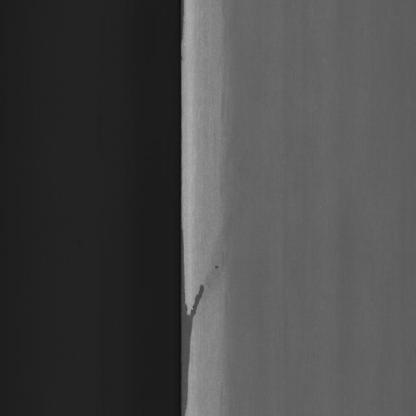water_spot: (172, 214, 209, 416)
